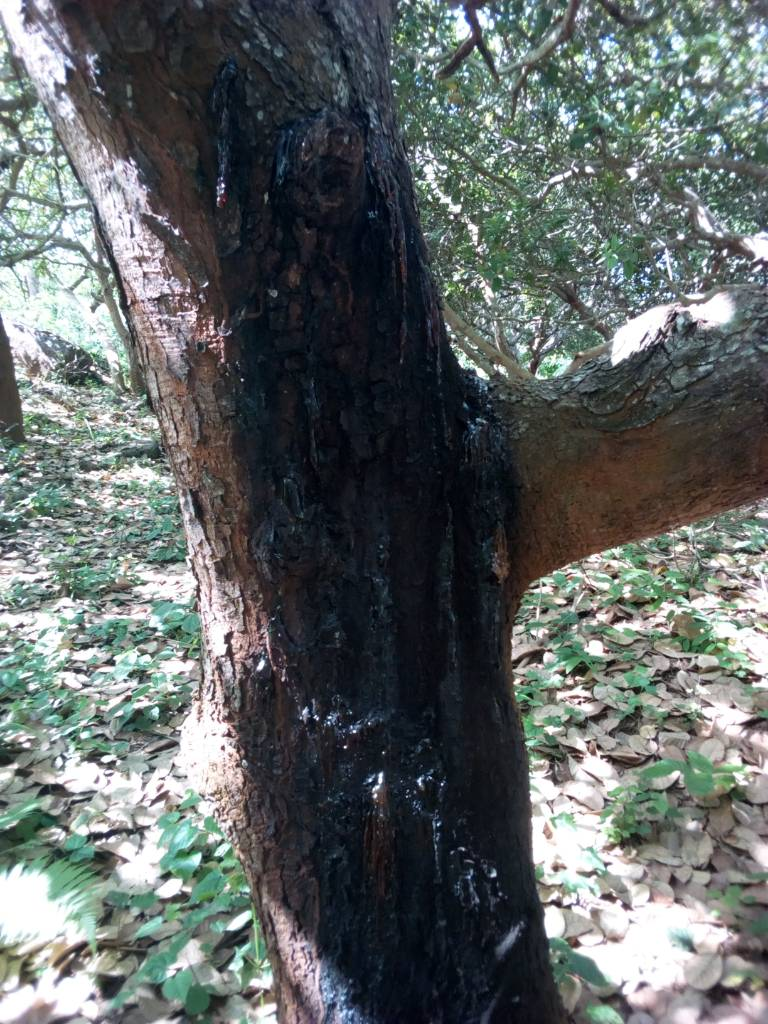Gommose: (211, 102, 516, 1024)
